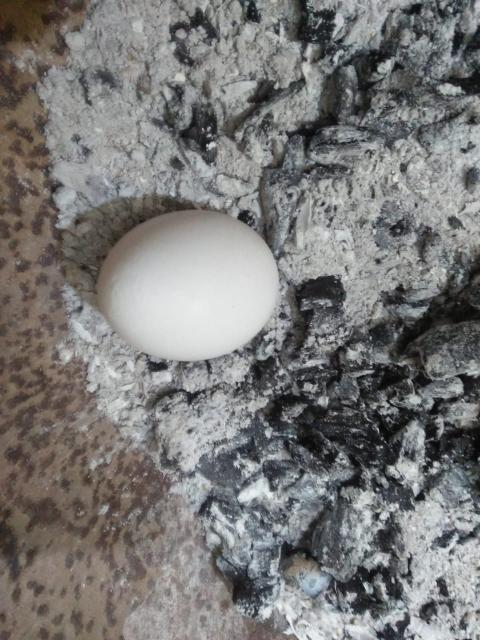Sano: (99, 210, 279, 364)
